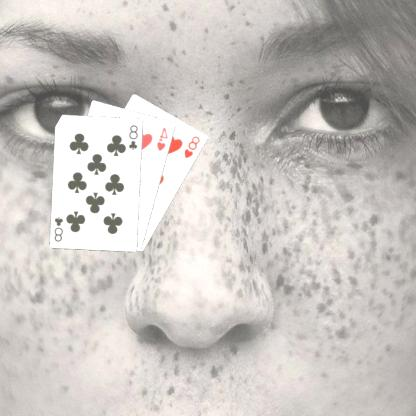4H: (156, 124, 171, 152)
8C: (128, 122, 141, 151), (53, 214, 66, 243)
8H: (183, 133, 203, 160)
